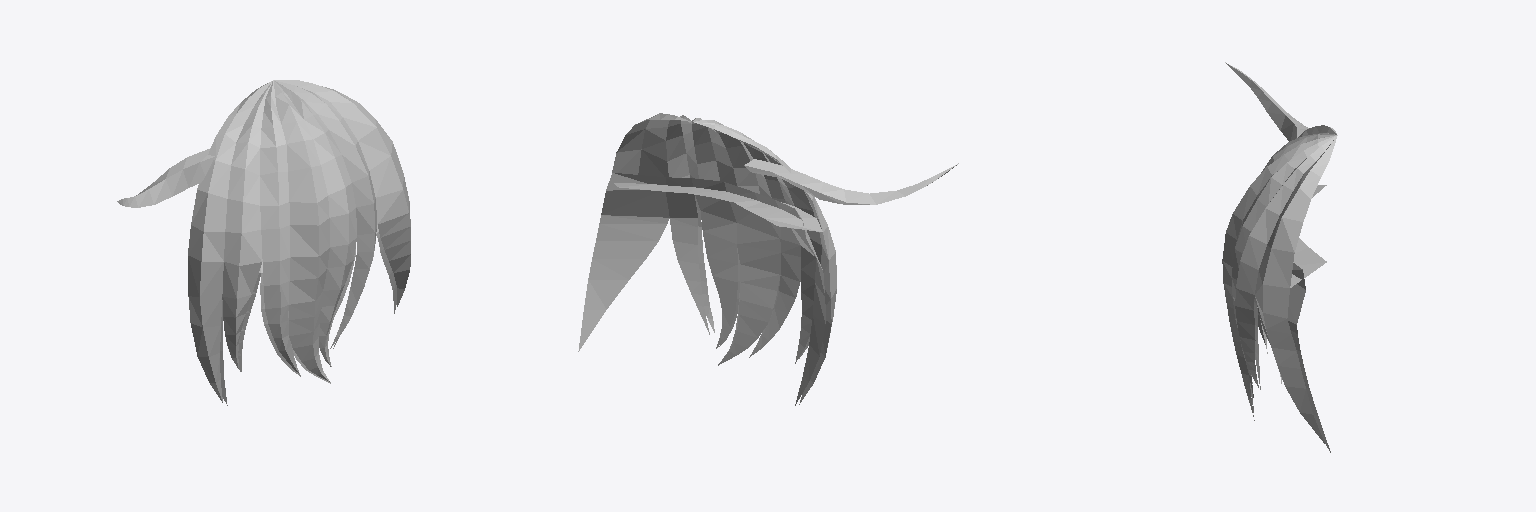
The model's file is g11 Hair.obj.
3 views of the same model, side by side, from view 1: azimuth 30°, elevation 25°; view 2: azimuth 150°, elevation 25°; view 3: azimuth 270°, elevation 25° (orthographic).
Visible parts, largest first — view 1: H_Front_0_mtr_G11_V100.024, Hair_Shadow_mtr_G11_V100; view 2: Hair_Shadow_mtr_G11_V100, H_Front_0_mtr_G11_V100.024; view 3: H_Front_0_mtr_G11_V100.024, Hair_Shadow_mtr_G11_V100.
Part boxes in pixels (left/top/right/bottom): H_Front_0_mtr_G11_V100.024: left=117, top=80, right=410, bottom=402; Hair_Shadow_mtr_G11_V100: left=220, top=225, right=396, bottom=405; Hair_Shadow_mtr_G11_V100: left=578, top=173, right=825, bottom=405; H_Front_0_mtr_G11_V100.024: left=612, top=113, right=958, bottom=404; H_Front_0_mtr_G11_V100.024: left=1222, top=62, right=1337, bottom=443; Hair_Shadow_mtr_G11_V100: left=1250, top=263, right=1330, bottom=452.
Size of the model in its own units: 0.2154 by 0.1792 by 0.0652.